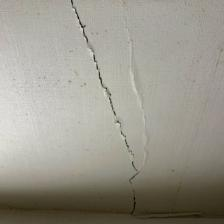Medium: (63, 1, 156, 206)
